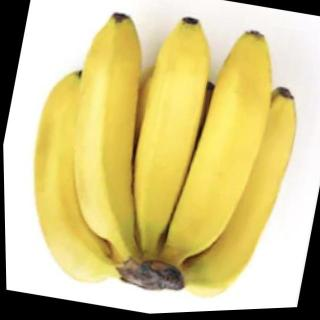banana: (2, 60, 154, 294), (156, 19, 287, 269), (46, 4, 178, 249), (174, 75, 308, 313), (112, 5, 226, 247)
